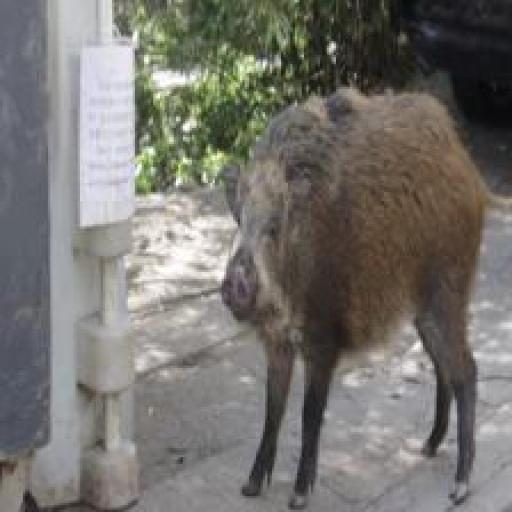Pig: (219, 87, 487, 507)
